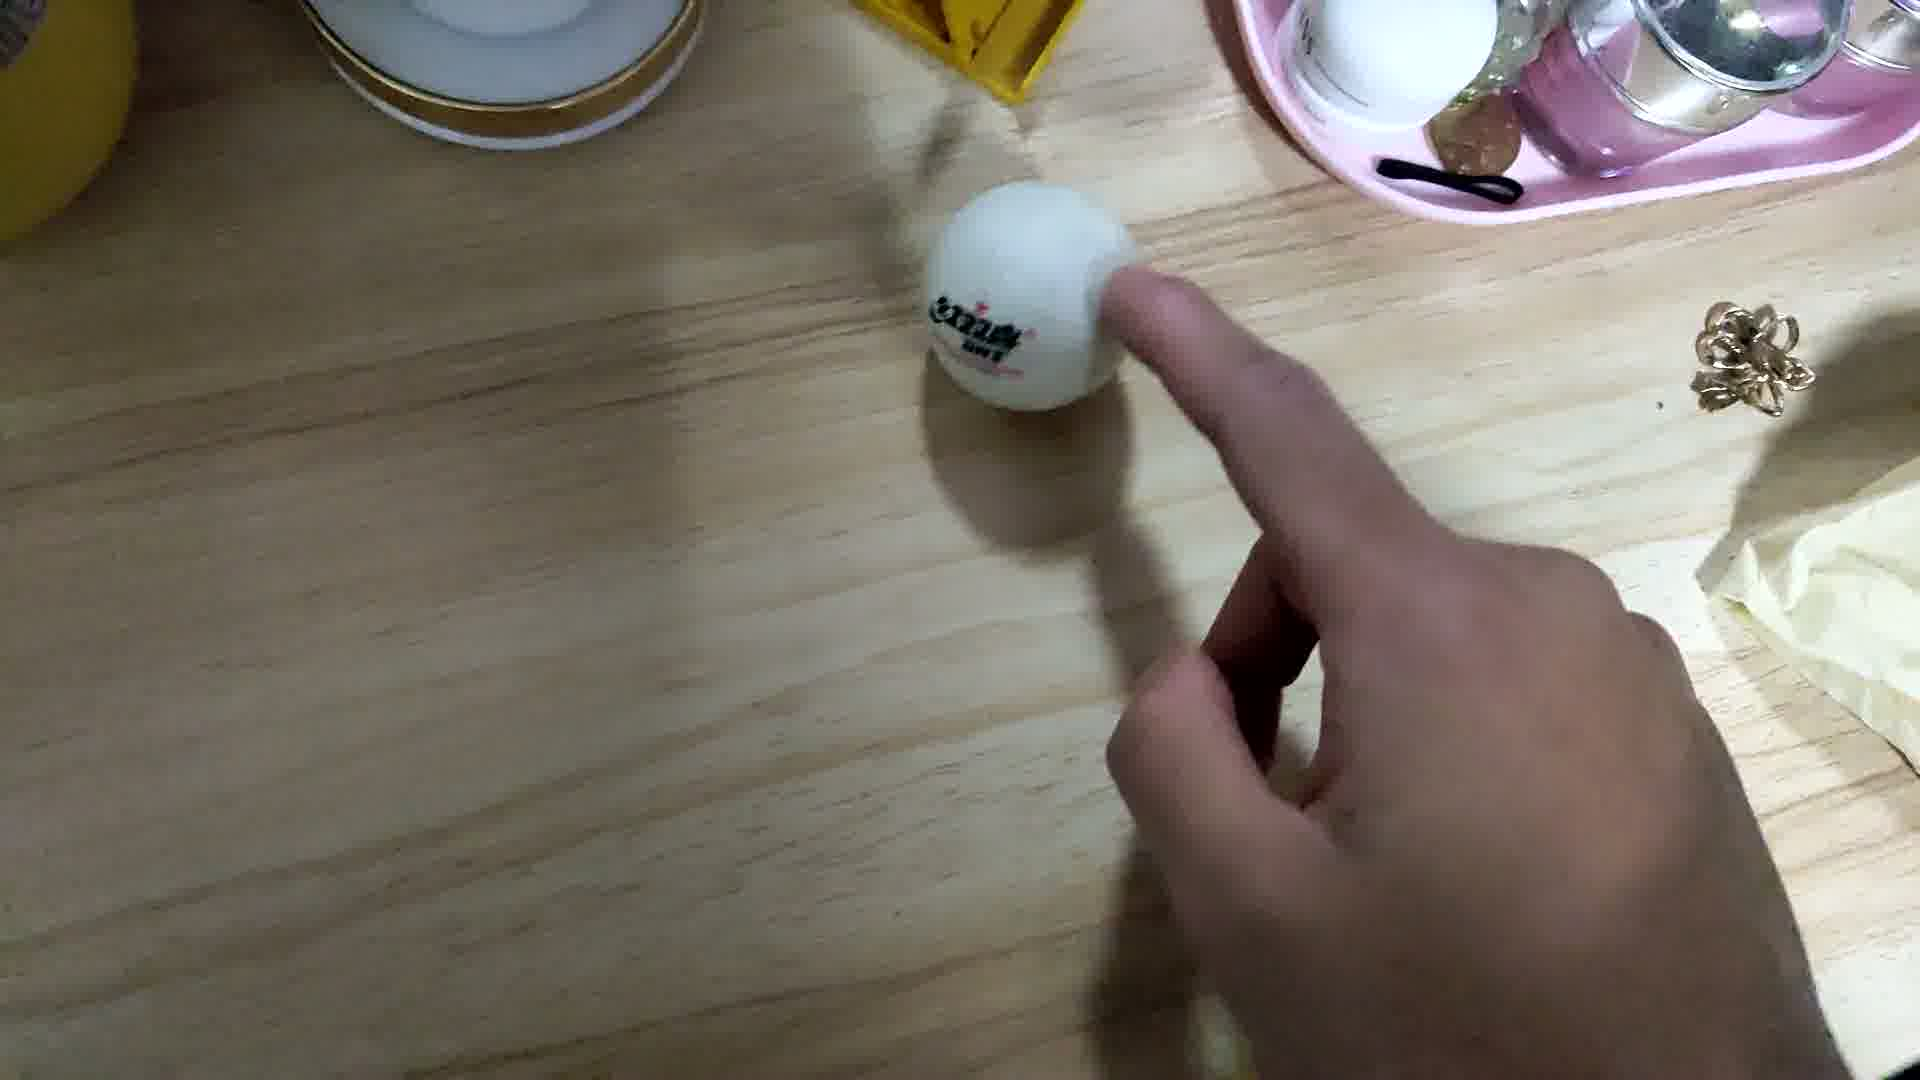Ball: (927, 179, 1135, 407)
